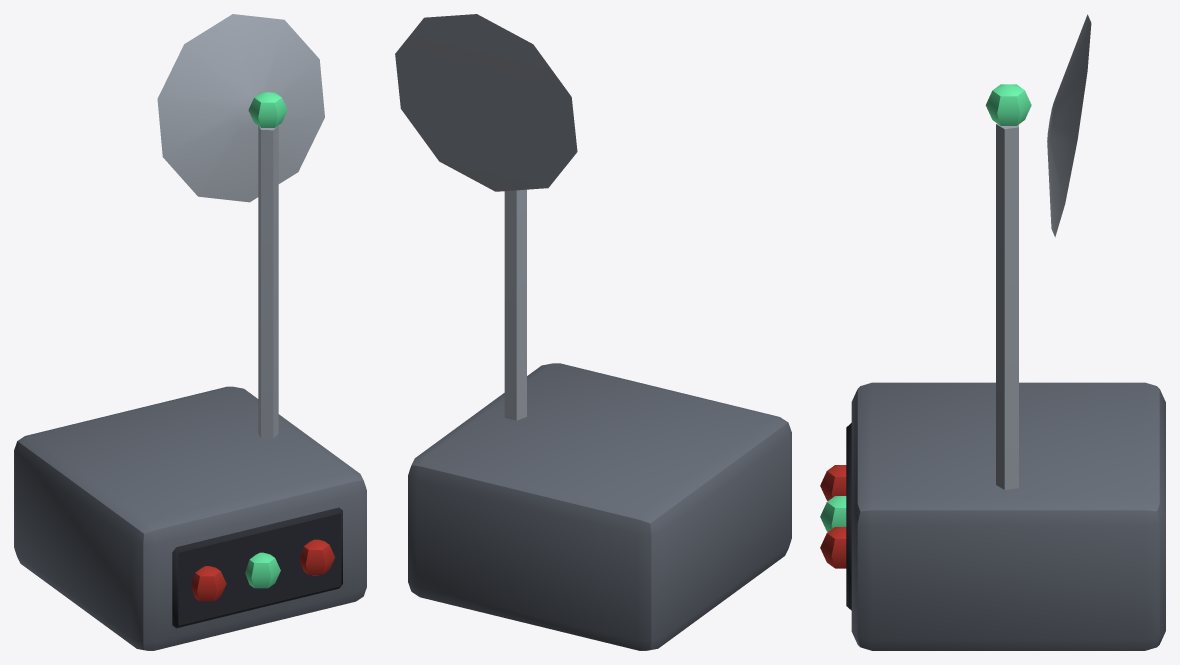
Rendered from item_beacon_kit.glb.
The picture shows the model from 3 angles, left to right: view 1: azimuth 30°, elevation 25°; view 2: azimuth 150°, elevation 25°; view 3: azimuth 270°, elevation 25°; orthographic projection. The views are drawn at different scales.
Visible parts, largest first — view 1: item_beacon_kit; view 2: item_beacon_kit; view 3: item_beacon_kit.
Part boxes in pixels (left/top/right/bottom): item_beacon_kit: left=14, top=14, right=366, bottom=650; item_beacon_kit: left=395, top=14, right=791, bottom=650; item_beacon_kit: left=820, top=14, right=1165, bottom=650.
Size of the model in its own units: 0.3546 by 0.6466 by 0.33.
